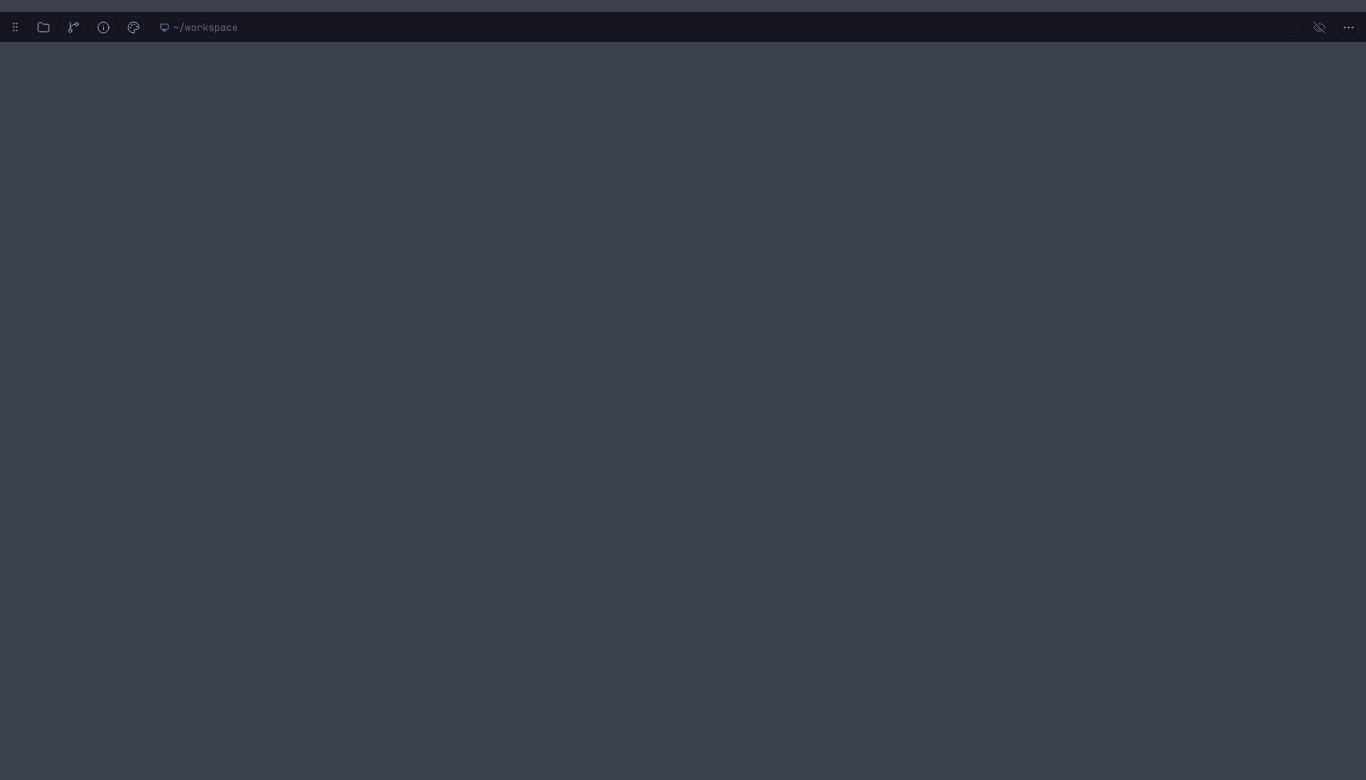
Test case: TerminalHeader › Info panel — pane identity and cwd › falls back to tabName when paneName is null
The image size is (1366, 780).
Click the button titled "Info" at (103, 27), box x1=89 y1=13 x2=117 y2=41
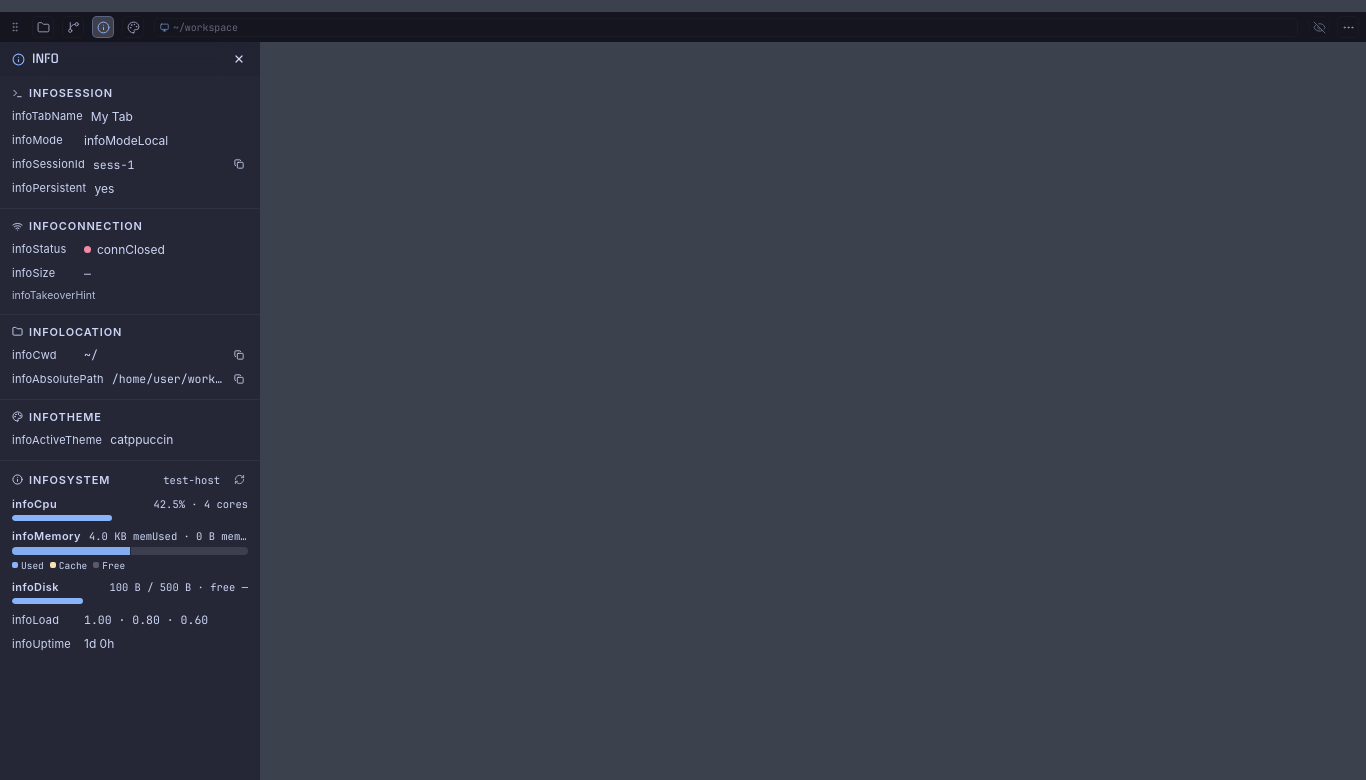
Expected: the text "My Tab" is shown, x1=91 y1=108 x2=133 y2=124
